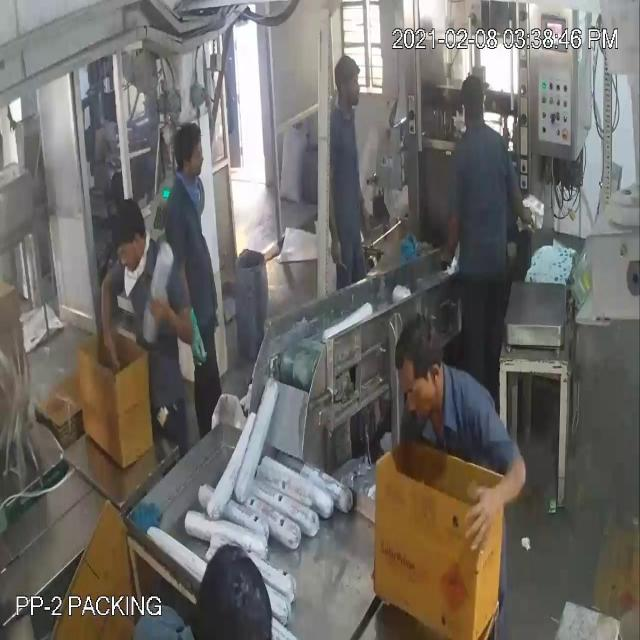No_Gloves: (28, 60, 496, 507)
